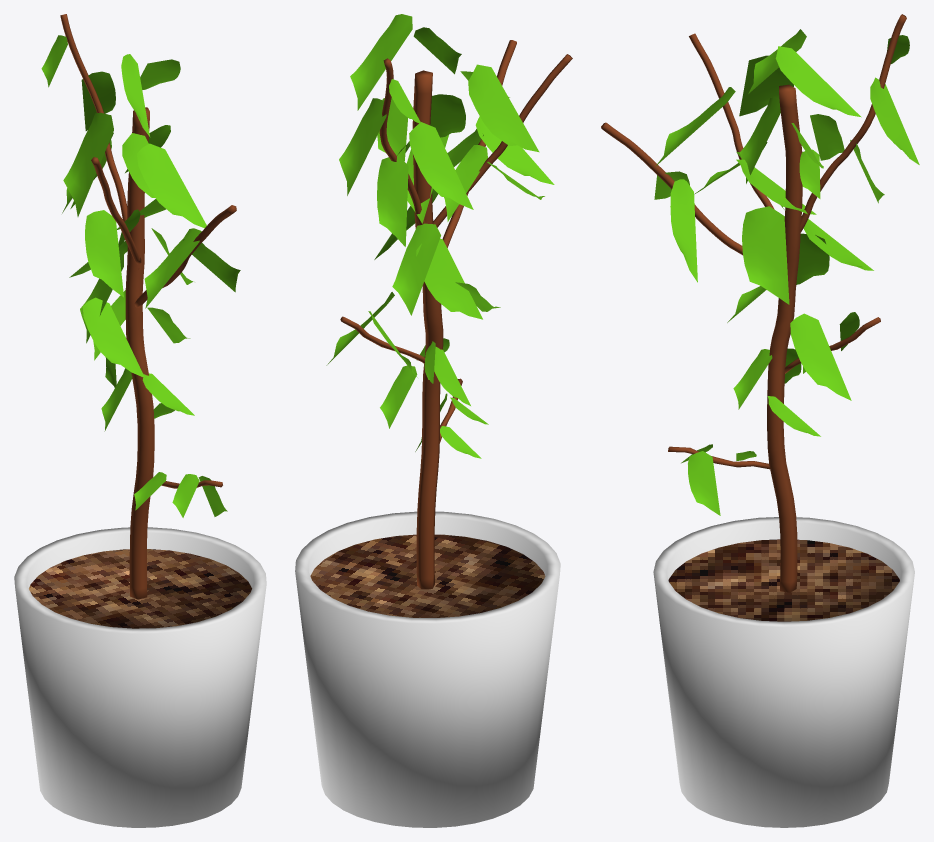
The model's file is plant2.glb.
The picture shows the model from 3 angles, left to right: view 1: azimuth 30°, elevation 25°; view 2: azimuth 150°, elevation 25°; view 3: azimuth 270°, elevation 25°; orthographic projection. The views are drawn at different scales.
Visible parts, largest first — view 1: Cylinder, Cylinder.001, Leaf.018, Leaf.010, Leaf.021, Leaf.008, Leaf.012, Cylinder.004, Leaf.015, Leaf.020, Leaf.013, Leaf.027 (+10 smaller); view 2: Cylinder, Cylinder.001, Leaf.021, Leaf.006, Leaf.026, Leaf.009, Leaf.024, Leaf.019, Leaf.015, Leaf.012, Leaf.027, Cylinder.006 (+9 smaller); view 3: Cylinder, Cylinder.001, Leaf.014, Leaf.003, Leaf.019, Leaf.013, Cylinder.004, Leaf.015, Leaf.021, Leaf, Cylinder.005, Leaf.027 (+10 smaller).
Part boxes in pixels (x1=…): Cylinder: x1=14, y1=527, x2=266, y2=827; Cylinder.001: x1=125, y1=107, x2=154, y2=599; Leaf.018: x1=137, y1=143, x2=206, y2=228; Leaf.010: x1=85, y1=210, x2=123, y2=297; Leaf.021: x1=63, y1=112, x2=113, y2=216; Leaf.008: x1=82, y1=297, x2=144, y2=377; Leaf.012: x1=144, y1=228, x2=201, y2=308; Cylinder.004: x1=60, y1=14, x2=139, y2=269; Leaf.015: x1=81, y1=71, x2=115, y2=130; Leaf.020: x1=121, y1=54, x2=150, y2=137; Leaf.013: x1=183, y1=239, x2=240, y2=292; Leaf.027: x1=122, y1=133, x2=154, y2=197; Cylinder: x1=295, y1=511, x2=560, y2=827; Cylinder.001: x1=412, y1=70, x2=443, y2=589; Leaf.021: x1=468, y1=64, x2=539, y2=152; Leaf.006: x1=409, y1=122, x2=473, y2=209; Leaf.026: x1=377, y1=155, x2=408, y2=246; Leaf.009: x1=392, y1=223, x2=440, y2=315; Leaf.024: x1=416, y1=238, x2=482, y2=319; Leaf.019: x1=350, y1=14, x2=412, y2=110; Leaf.015: x1=339, y1=98, x2=386, y2=195; Leaf.012: x1=475, y1=116, x2=554, y2=184; Leaf.027: x1=430, y1=94, x2=465, y2=137; Cylinder.006: x1=433, y1=54, x2=572, y2=227; Cylinder: x1=653, y1=517, x2=914, y2=827; Cylinder.001: x1=767, y1=84, x2=802, y2=592; Leaf.014: x1=742, y1=206, x2=789, y2=304; Leaf.003: x1=790, y1=313, x2=851, y2=400; Leaf.019: x1=775, y1=46, x2=861, y2=117; Leaf.013: x1=670, y1=179, x2=697, y2=282; Cylinder.004: x1=800, y1=14, x2=906, y2=232; Leaf.015: x1=870, y1=77, x2=919, y2=164; Leaf.021: x1=739, y1=55, x2=793, y2=116; Leaf: x1=688, y1=451, x2=720, y2=515; Cylinder.005: x1=601, y1=122, x2=742, y2=255; Leaf.027: x1=740, y1=97, x2=780, y2=183.
Bounding box in the file's own units: 0.28 × 0.8968 × 0.3413.
4 materials, 1 textured.
